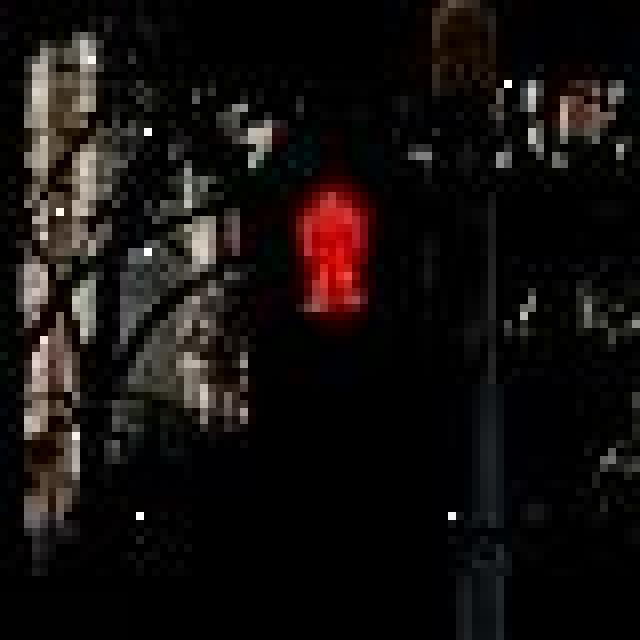redlight: (256, 8, 488, 632)
